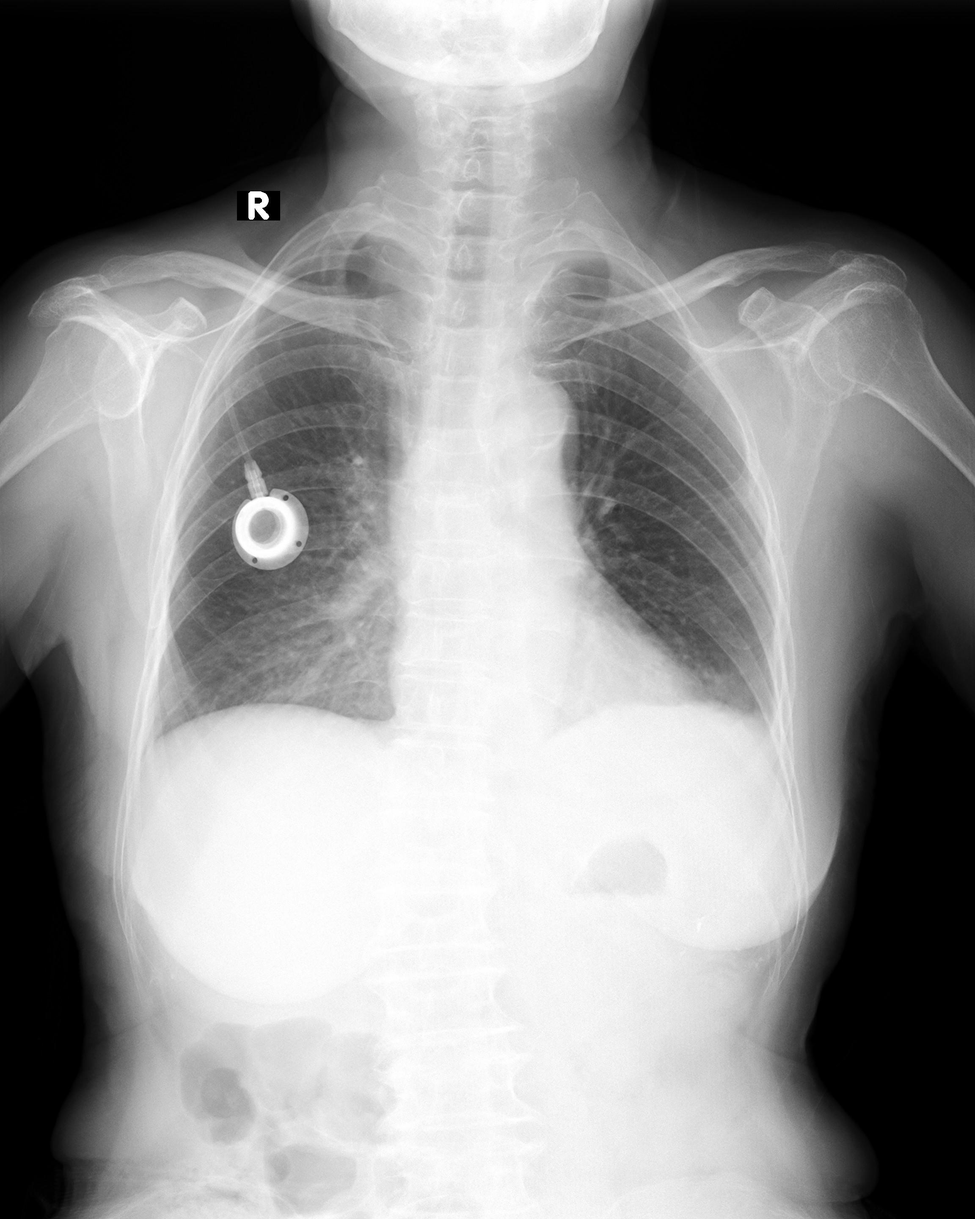Pleural thickening: (761, 709, 791, 772)
